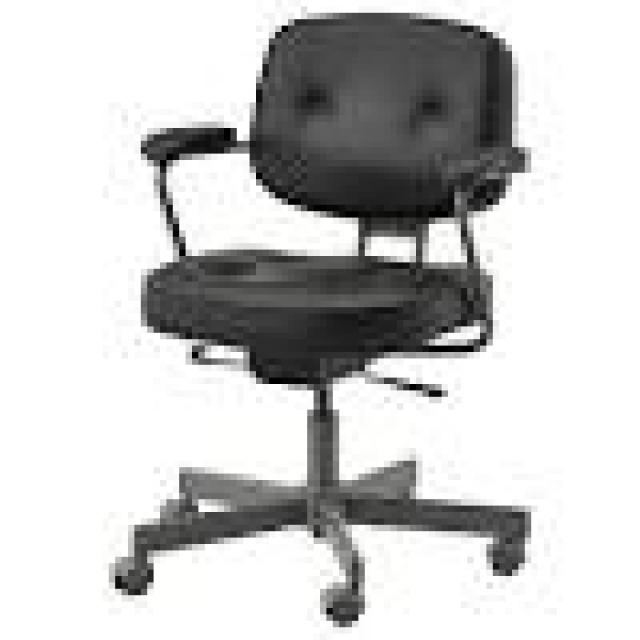chair: (58, 0, 563, 640)
